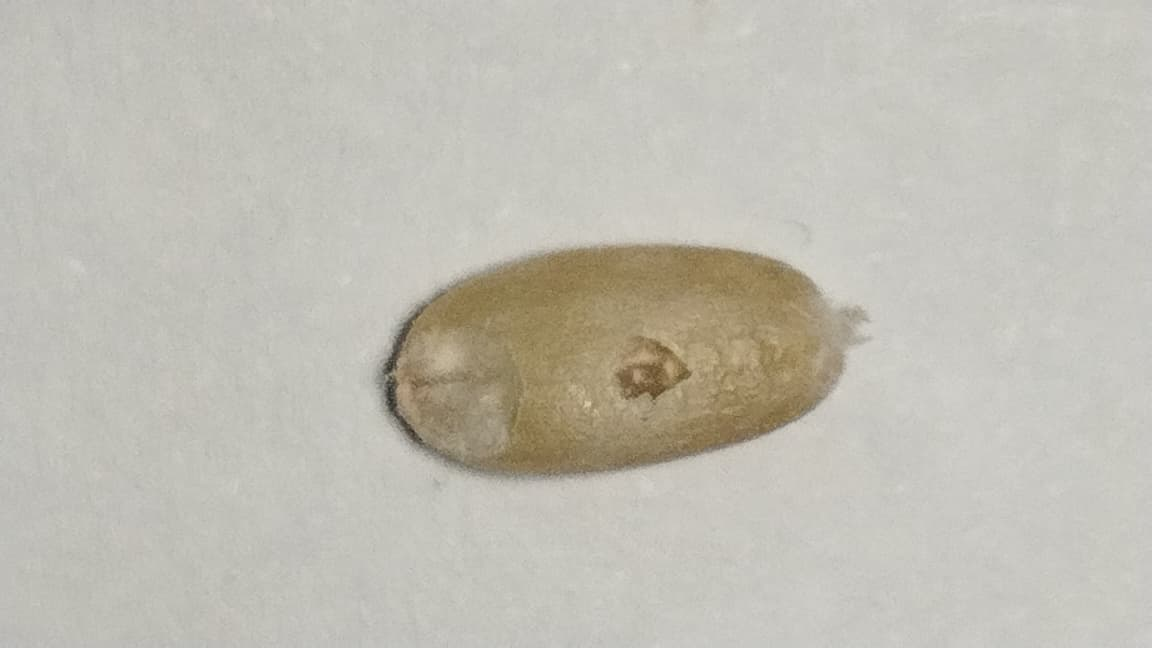damage: (394, 247, 846, 471)
insectdamage: (573, 316, 723, 418)
